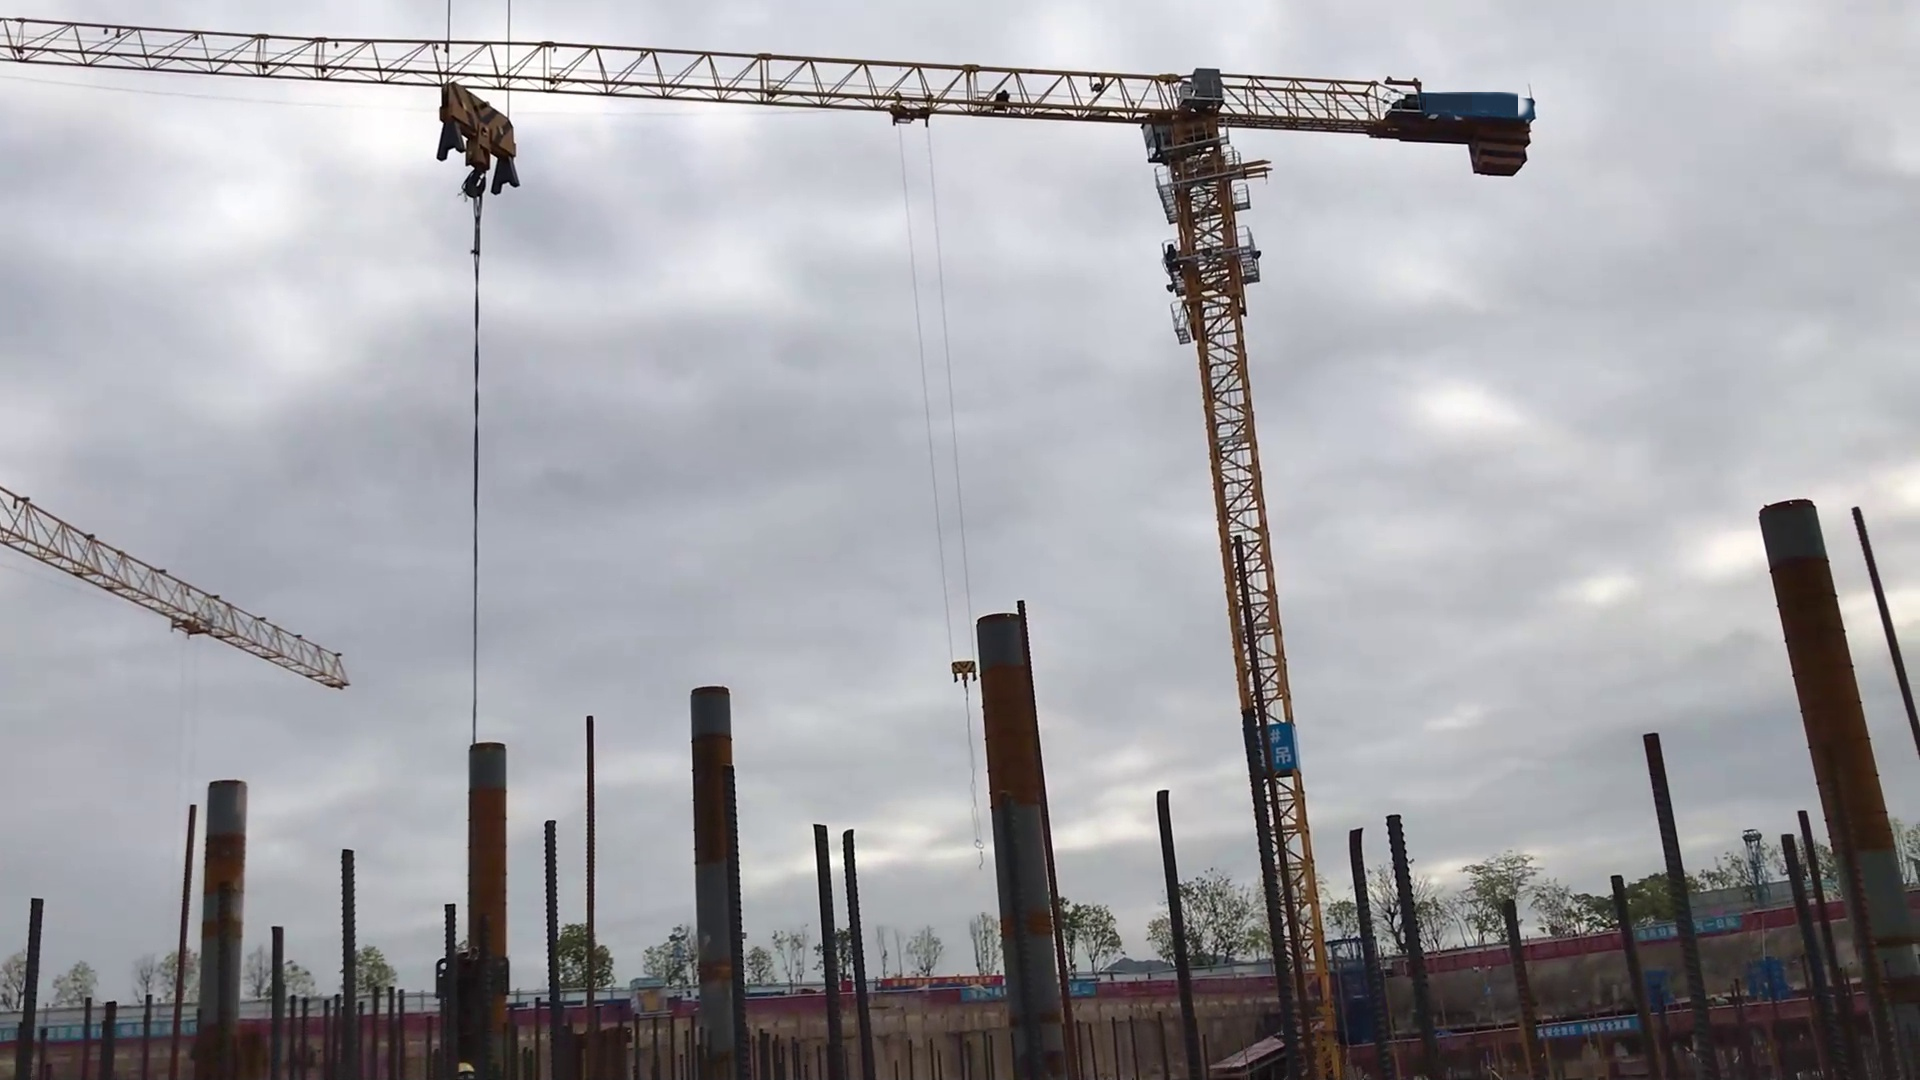hook: (427, 76, 526, 214)
